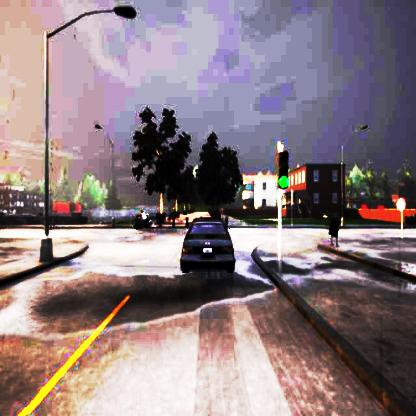motobike: (134, 208, 154, 230)
vehicle: (180, 219, 235, 274)
